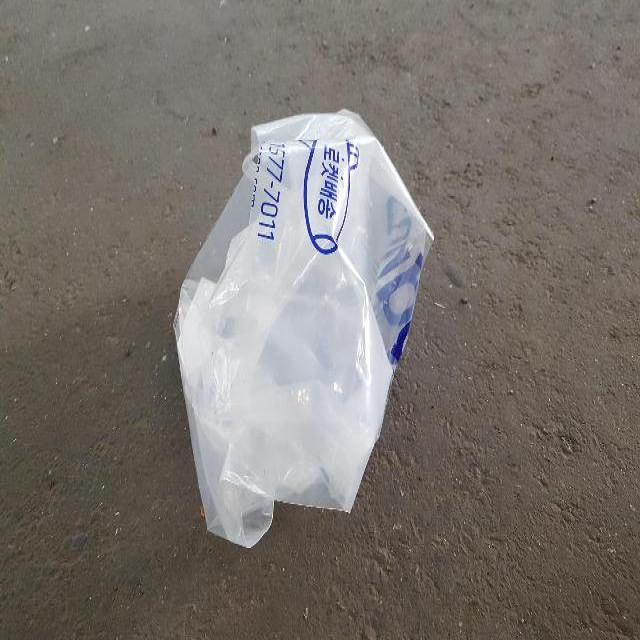plastic bag: (168, 105, 433, 534)
